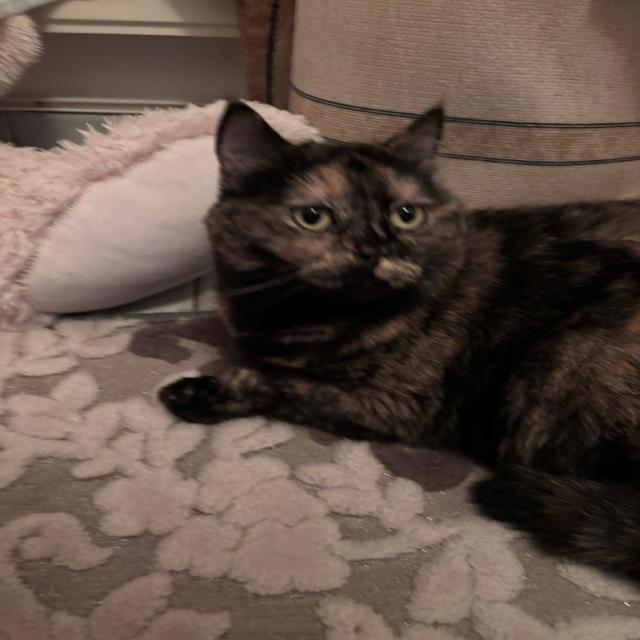authorized: (155, 98, 639, 587)
